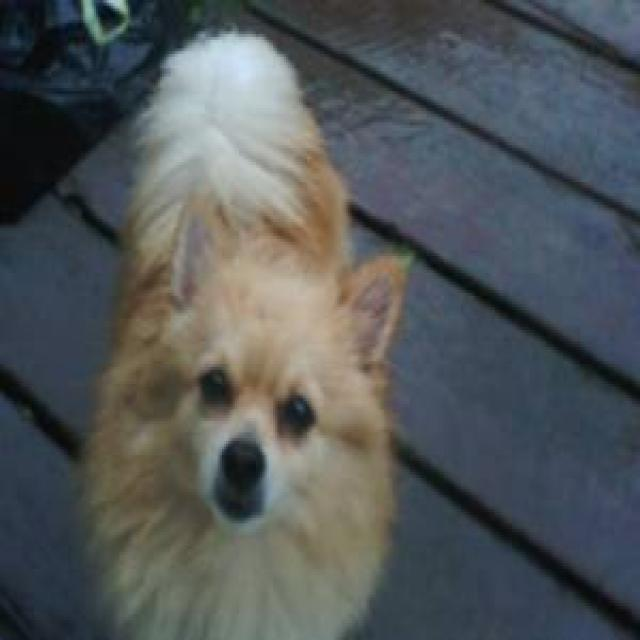dog-pomeranian: (77, 17, 416, 634)
